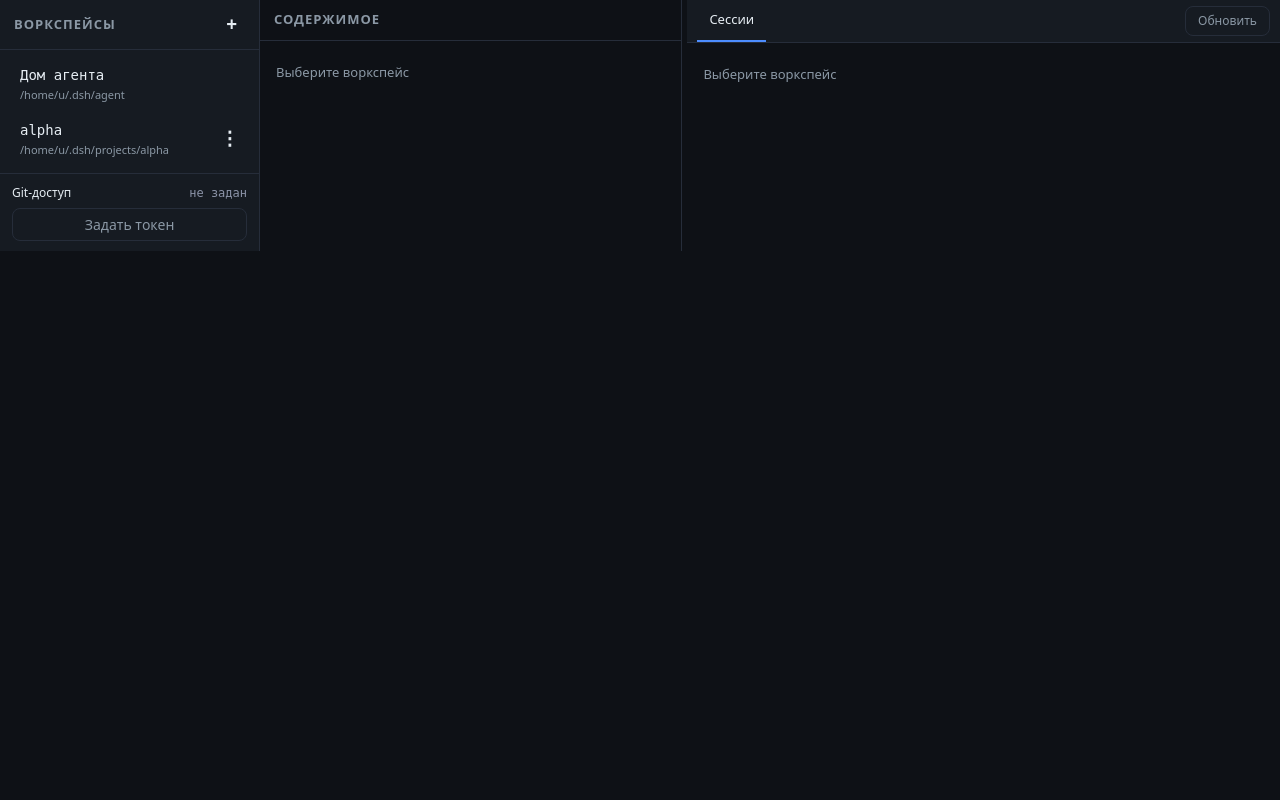
Test case: WorkspacesPage create/delete flows › cancel keeps the project and performs no deletion
Expected: the text "alpha" is shown, [20,122,62,138]
Click the button with test id "ws-menu-project:alpha" at (230, 139), box [212,124,247,153]
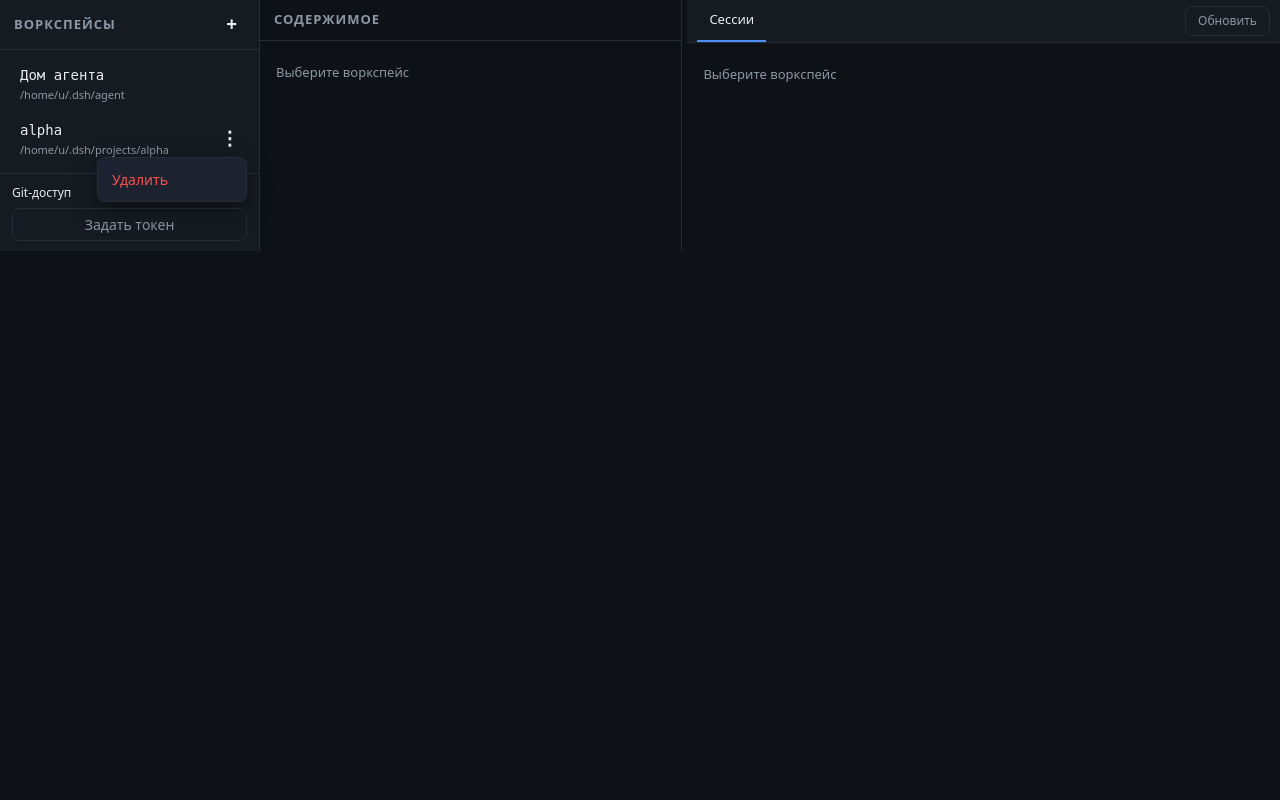
Click the button with test id "ws-delete-alpha" at (172, 180), box [102,162,242,197]
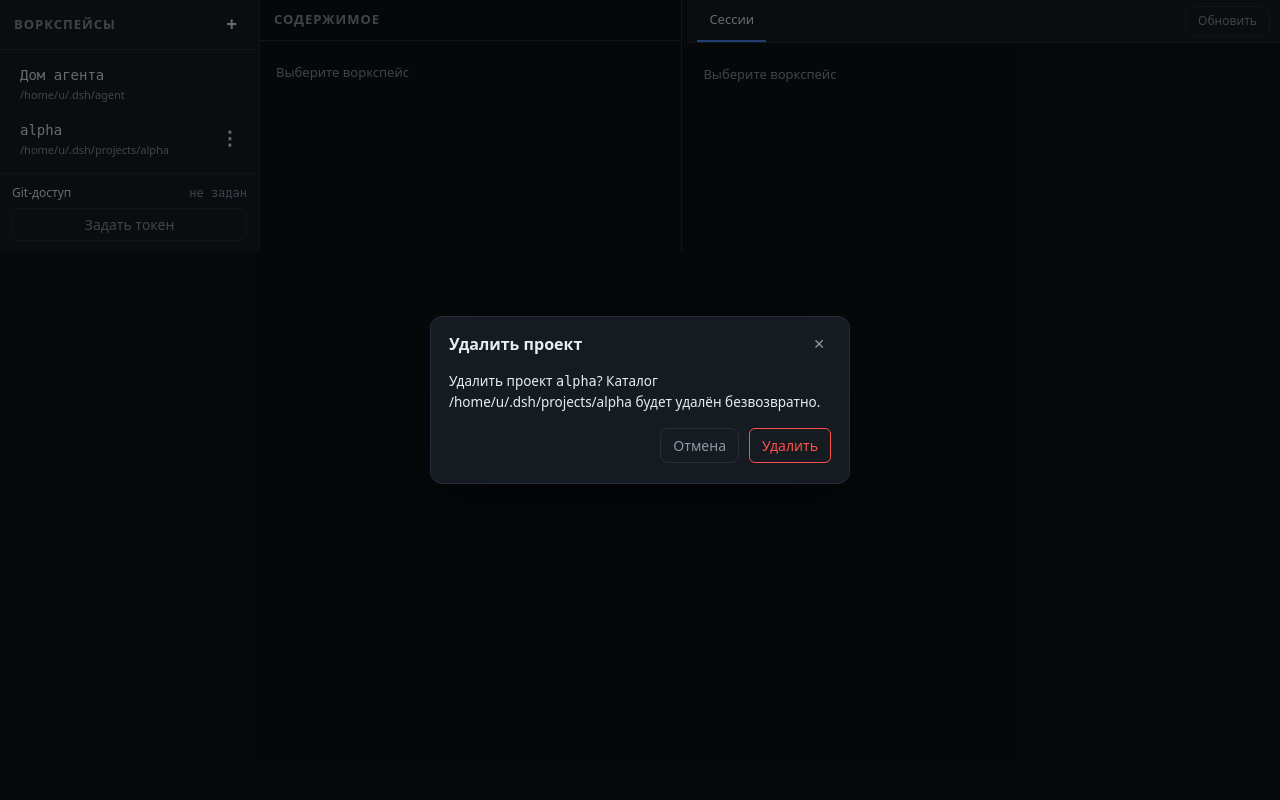
Click the button with test id "workspace-delete-cancel" at (700, 445), box [660,428,739,463]
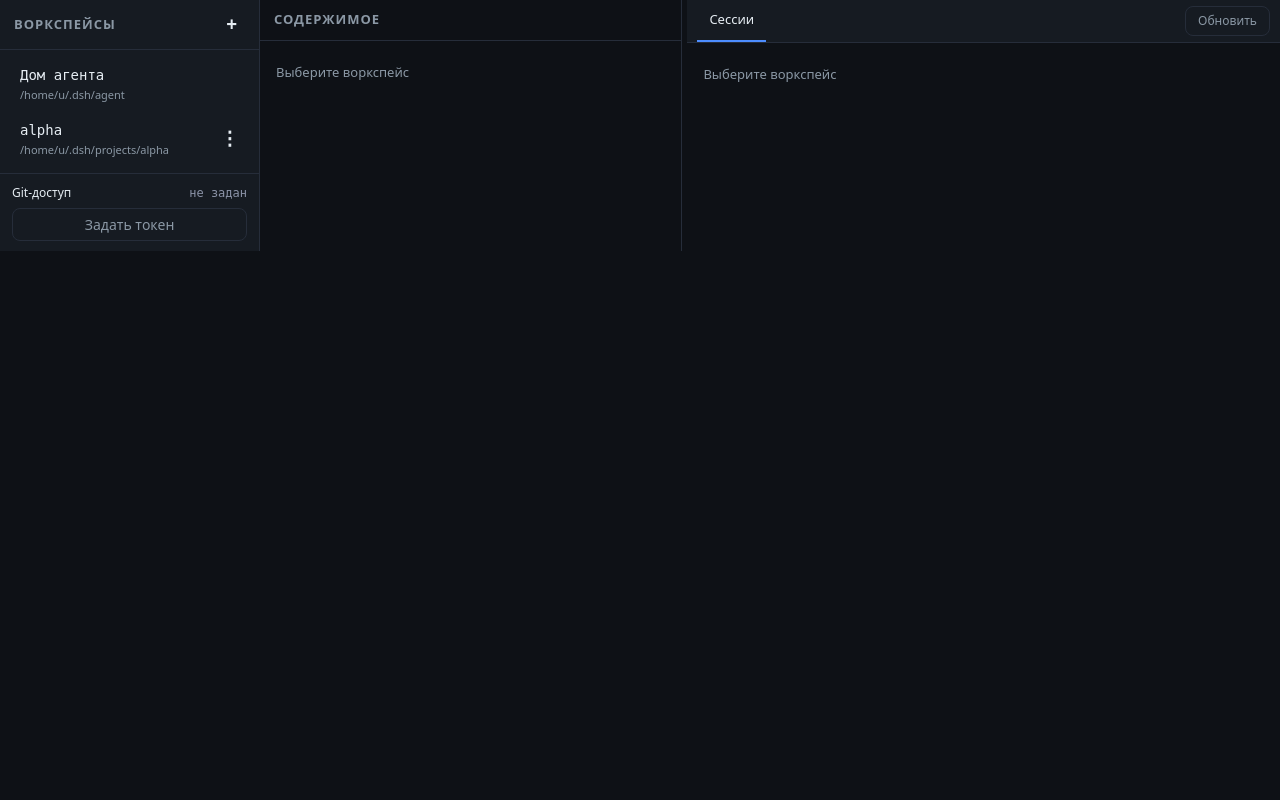
Expected: the heading "Удалить проект" is gone
